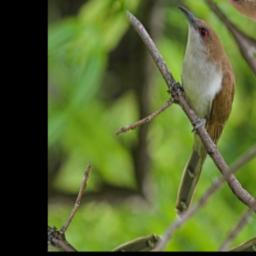Cuckoo: (88, 0, 256, 220)
